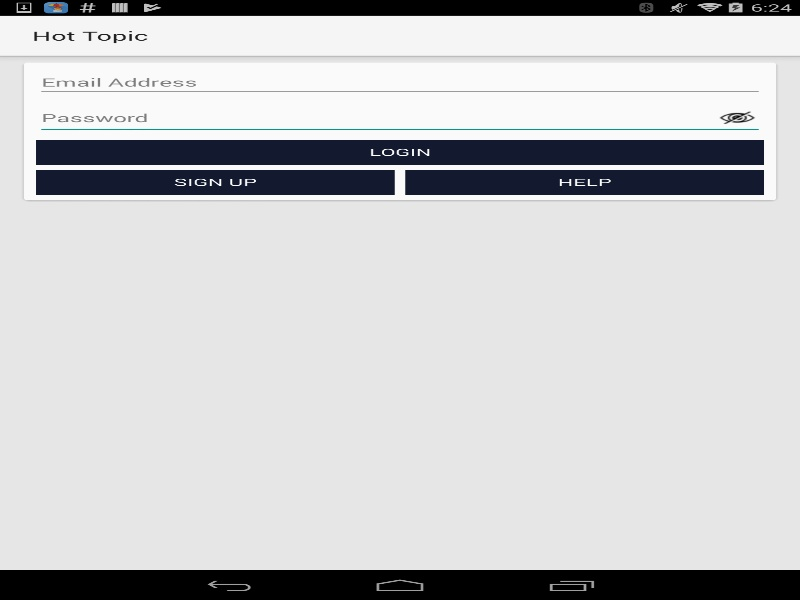Input: (36, 101, 764, 134), (36, 68, 764, 96)
